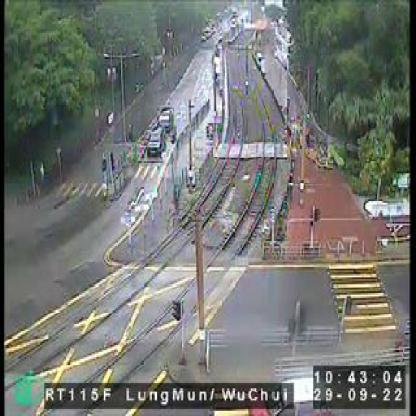Car: (143, 125, 164, 154), (156, 104, 174, 133)
